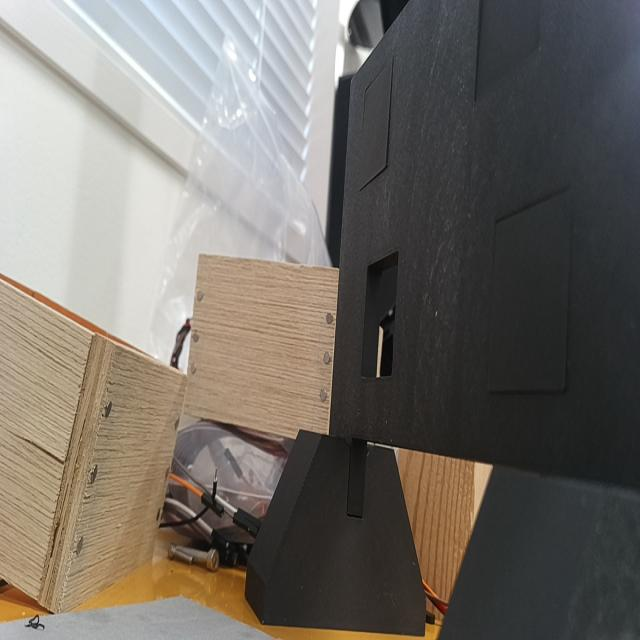Obstacle: (361, 253, 398, 378)
Wall: (330, 0, 640, 490)
